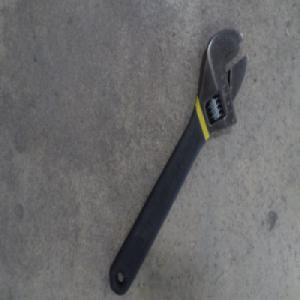AdjustableWrench: (108, 26, 247, 291)
